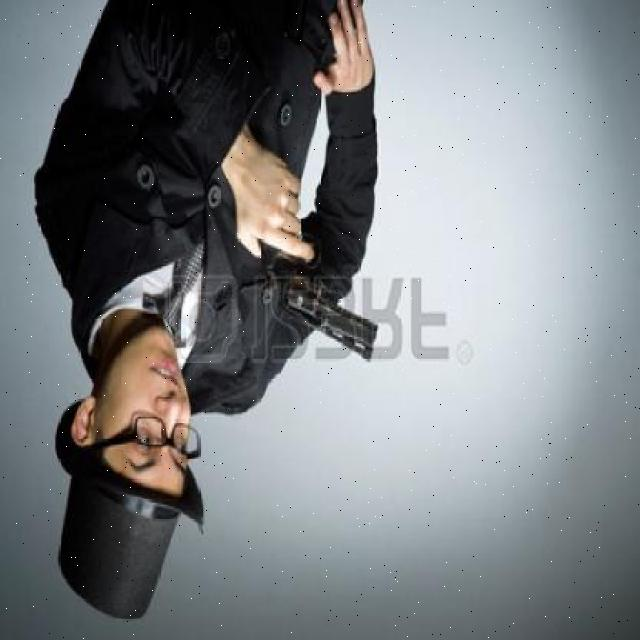gun: (257, 212, 395, 371)
